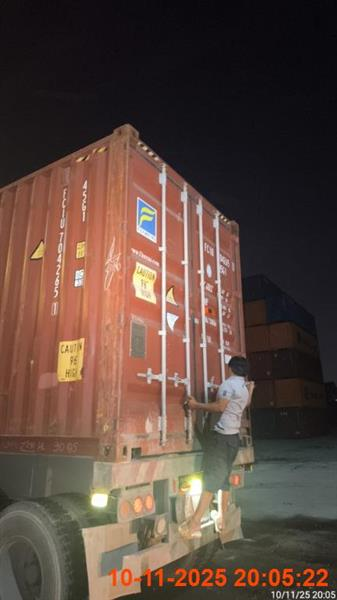broken: (0, 124, 250, 599), (177, 355, 249, 540)
